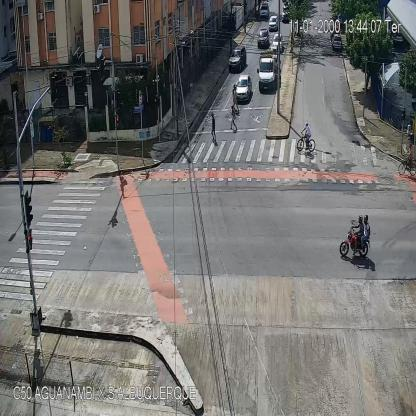bicycle: (296, 122, 314, 152), (399, 146, 415, 177)
car: (228, 46, 247, 70), (234, 76, 252, 100), (257, 27, 269, 45), (272, 34, 284, 52), (331, 34, 341, 52), (268, 14, 278, 32), (258, 4, 269, 18)
motorbike: (340, 216, 370, 260)
person: (210, 110, 218, 143), (230, 104, 239, 131), (233, 84, 240, 114), (189, 75, 194, 98)
truck: (258, 54, 278, 90)
